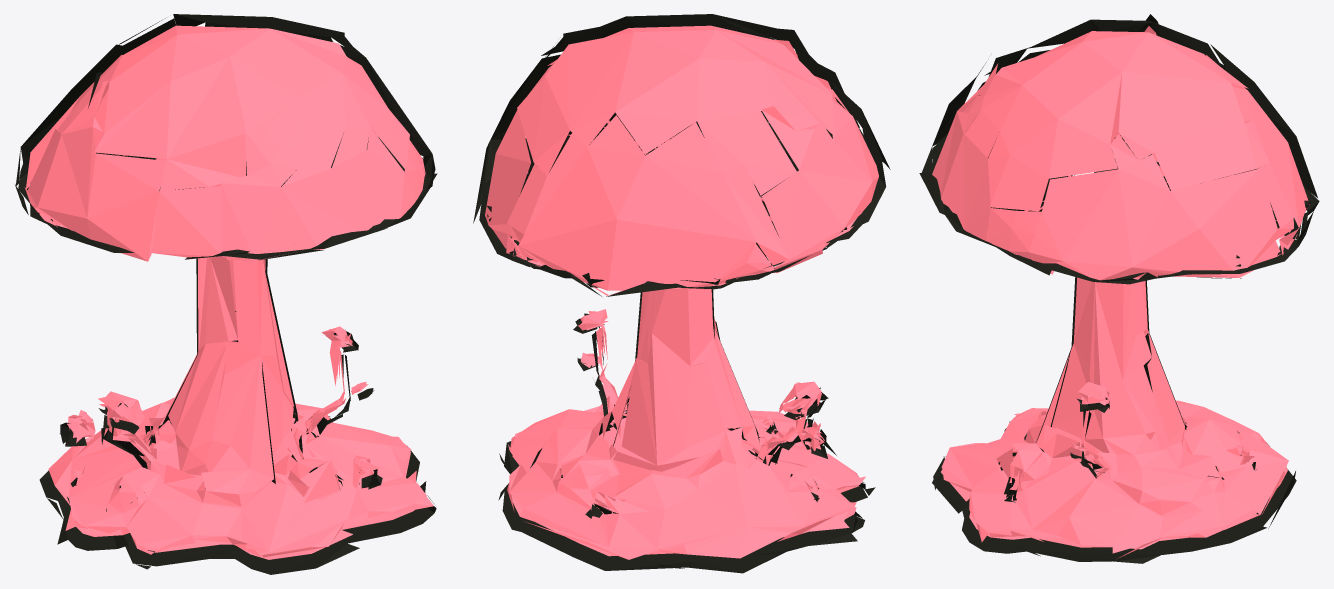
The model's file is df_v2_mushroom_cluster_small_d_a.glb.
The picture shows the model from 3 angles, left to right: view 1: azimuth 30°, elevation 25°; view 2: azimuth 150°, elevation 25°; view 3: azimuth 270°, elevation 25°; orthographic projection. The views are drawn at different scales.
Visible parts, largest first — view 1: mushroom_cluster_small_d_mesh_01, mushroom_cluster_small_d_mesh_01_ink_outline; view 2: mushroom_cluster_small_d_mesh_01, mushroom_cluster_small_d_mesh_01_ink_outline; view 3: mushroom_cluster_small_d_mesh_01, mushroom_cluster_small_d_mesh_01_ink_outline.
Boxes of the visible parts, x1,y1,x2,y2 form: mushroom_cluster_small_d_mesh_01: (24,25,433,559); mushroom_cluster_small_d_mesh_01_ink_outline: (15,14,437,574); mushroom_cluster_small_d_mesh_01: (485,25,878,559); mushroom_cluster_small_d_mesh_01_ink_outline: (473,14,890,573); mushroom_cluster_small_d_mesh_01: (932,26,1309,558); mushroom_cluster_small_d_mesh_01_ink_outline: (919,14,1319,563).
Bounding box in the file's own units: 0.7365 × 0.901 × 0.7204.
